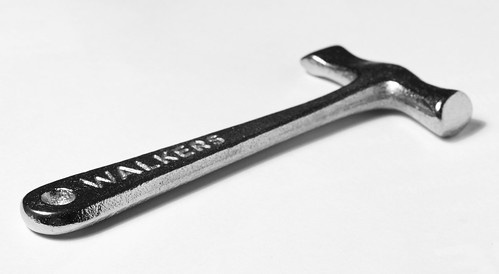hammer: (21, 44, 476, 238)
